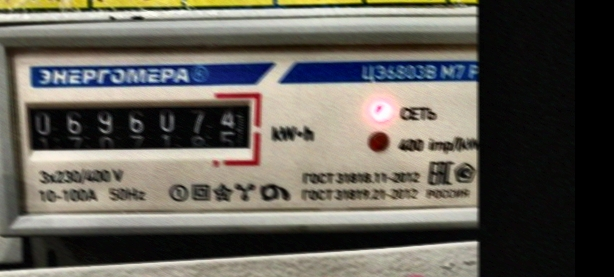0: (32, 107, 51, 132), (159, 104, 175, 130)
4: (220, 102, 236, 126)
5: (220, 126, 235, 144)
6: (65, 105, 84, 132), (127, 106, 144, 130)
7: (188, 105, 206, 131)
9: (95, 106, 114, 131)
screen: (14, 84, 267, 166)
